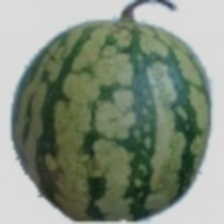watermelon: (41, 12, 195, 212)
